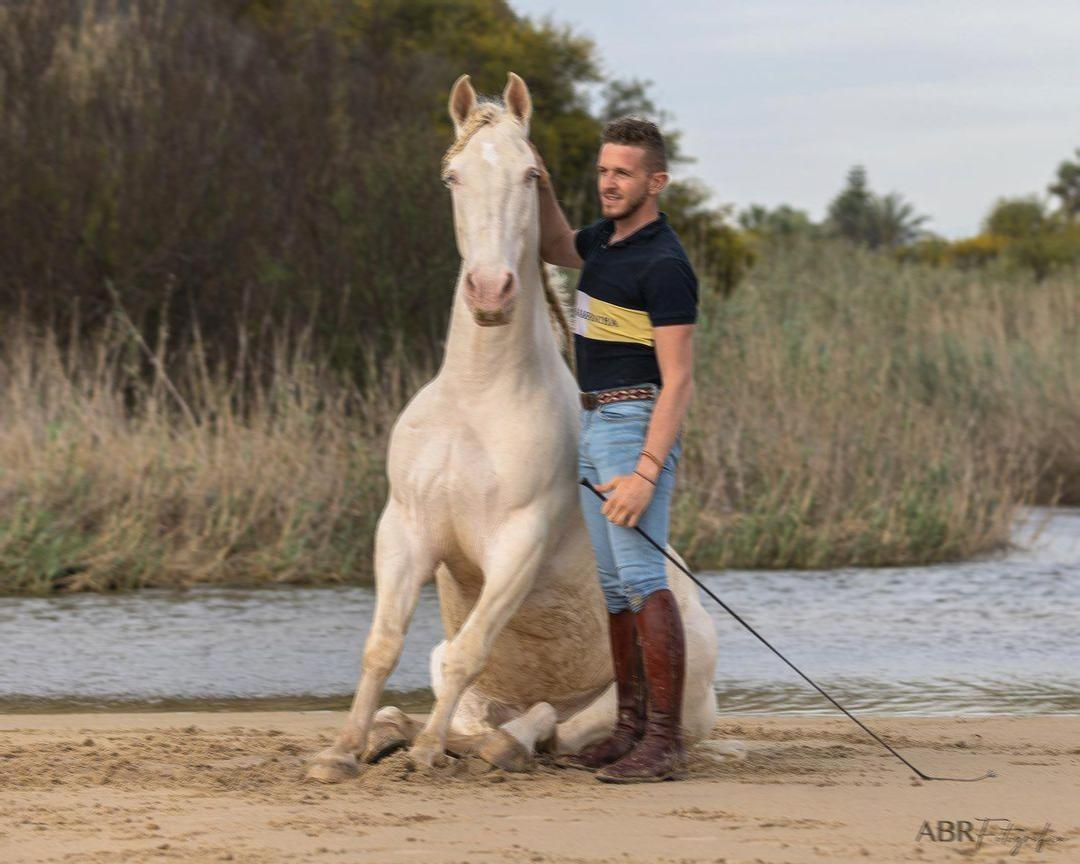horse: (302, 69, 722, 784)
